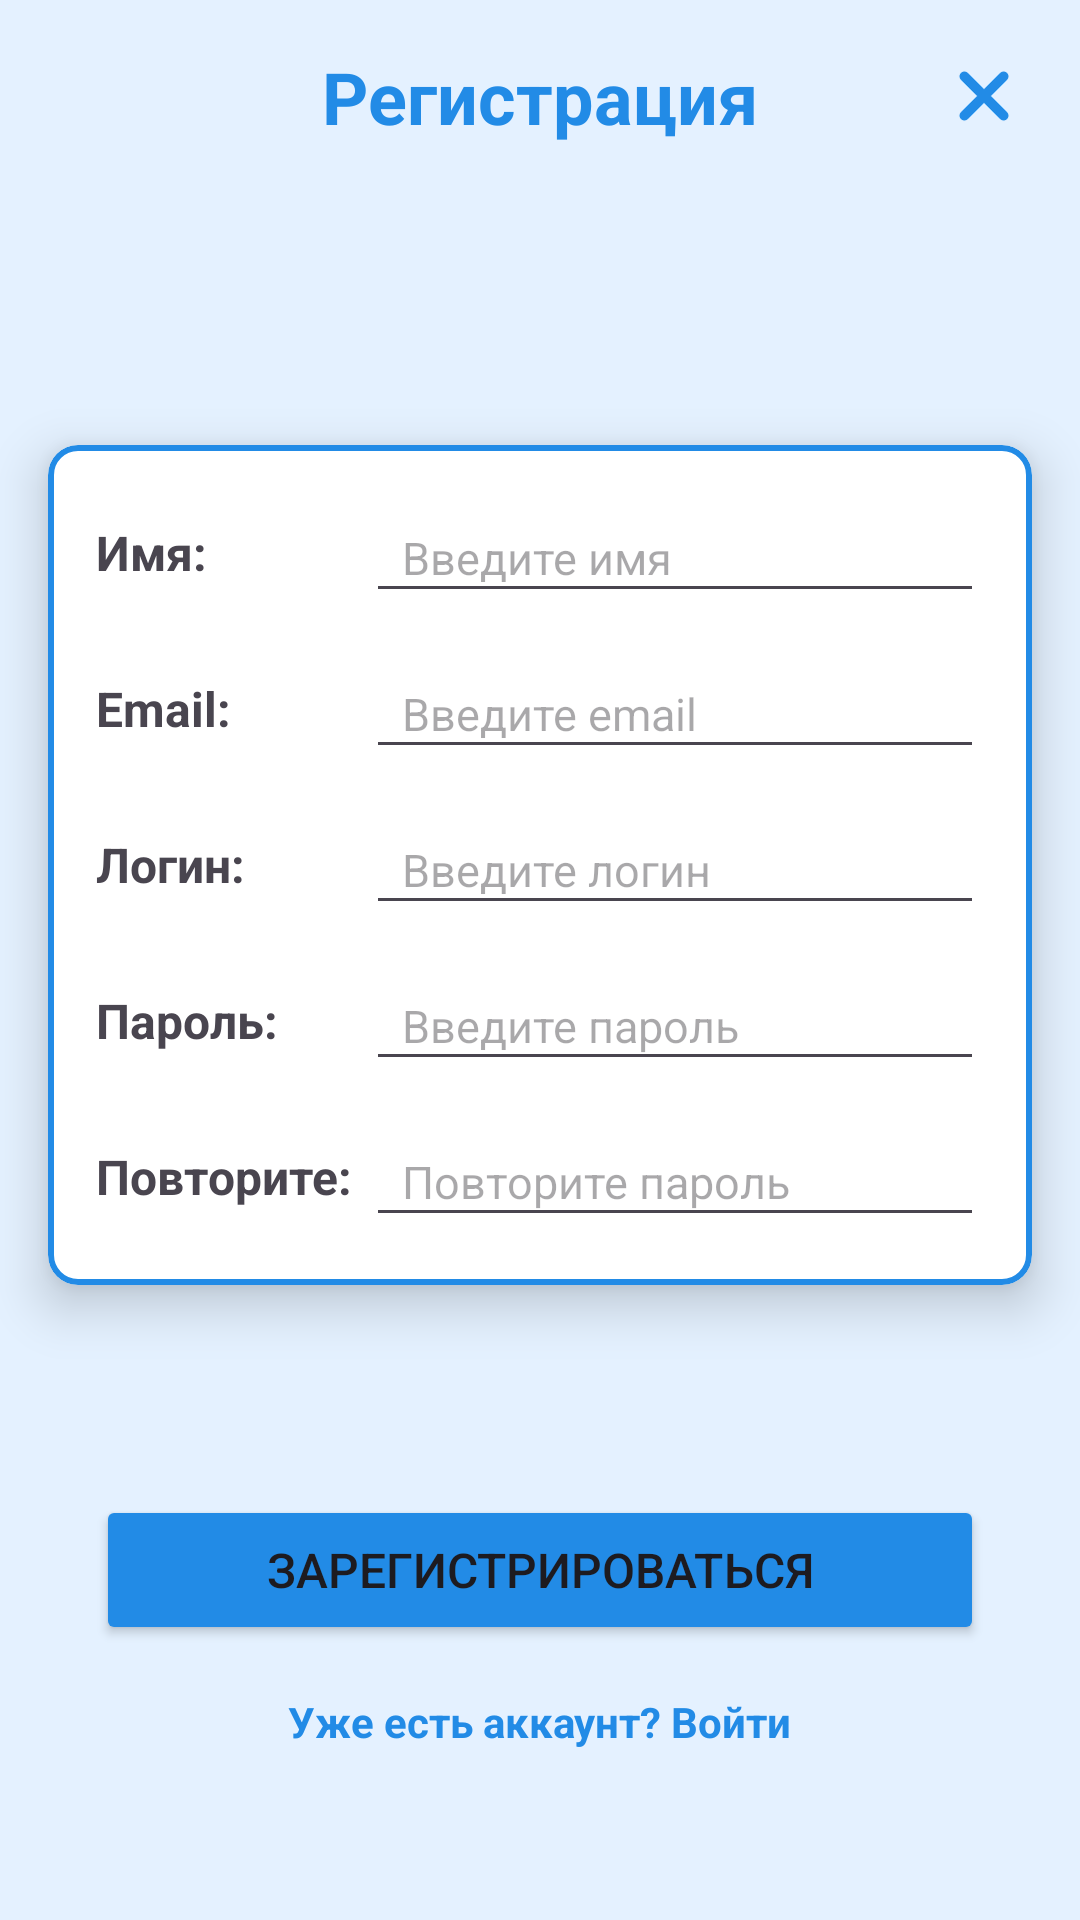

Locate icon controls on the screen. Image size 1080 × 1920, boxes as bbox=[x1, y1, x2, y2].
cancel: bbox=[959, 71, 1009, 121]
